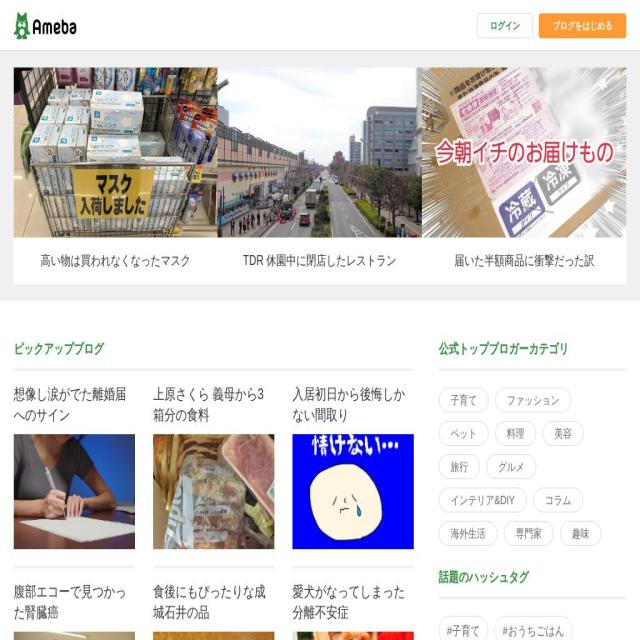button: (217, 68, 422, 268), (14, 68, 218, 268), (422, 68, 626, 268), (14, 384, 135, 549), (153, 384, 274, 549), (292, 384, 413, 549), (14, 581, 135, 640), (153, 581, 274, 640), (292, 581, 413, 640), (539, 12, 626, 38), (439, 488, 527, 512), (495, 616, 572, 640), (495, 388, 571, 412), (438, 521, 498, 546), (476, 12, 533, 38), (439, 421, 489, 446), (486, 454, 536, 479), (504, 521, 554, 546), (439, 388, 489, 412), (533, 488, 583, 512), (439, 616, 488, 640), (542, 421, 584, 446), (495, 421, 536, 446), (439, 454, 480, 479), (560, 521, 601, 546)
heading: (14, 342, 414, 356), (439, 342, 626, 356), (439, 571, 626, 584), (14, 12, 76, 39)
image: (217, 68, 422, 238), (14, 68, 218, 238), (422, 68, 626, 238), (14, 434, 135, 549), (153, 434, 274, 549), (292, 434, 413, 549), (14, 631, 135, 640), (153, 631, 274, 640), (292, 631, 413, 640)
link: (14, 384, 135, 426), (153, 384, 274, 426), (292, 384, 413, 426), (14, 582, 135, 623), (153, 582, 274, 623), (292, 582, 413, 623), (434, 254, 614, 268), (26, 254, 205, 268), (230, 254, 409, 268)
